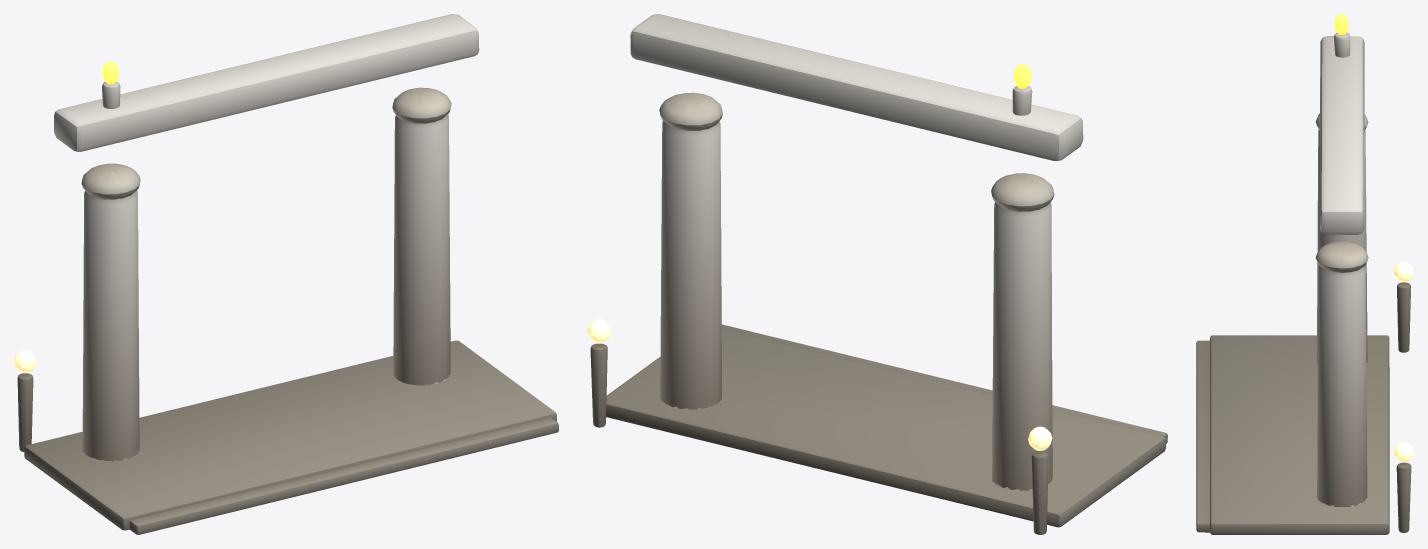
3 views of the same model, side by side, from view 1: azimuth 30°, elevation 25°; view 2: azimuth 150°, elevation 25°; view 3: azimuth 270°, elevation 25° (orthographic). The views are drawn at different scales.
Parts seen in each view (by area): view 1: gate_83599c45; view 2: gate_83599c45; view 3: gate_83599c45.
Part boxes in pixels (bbox=[...]): gate_83599c45: bbox=[14, 14, 558, 534]; gate_83599c45: bbox=[587, 14, 1167, 534]; gate_83599c45: bbox=[1196, 14, 1413, 534].
Size of the model in its own units: 5.25 by 4.65 by 2.54.
